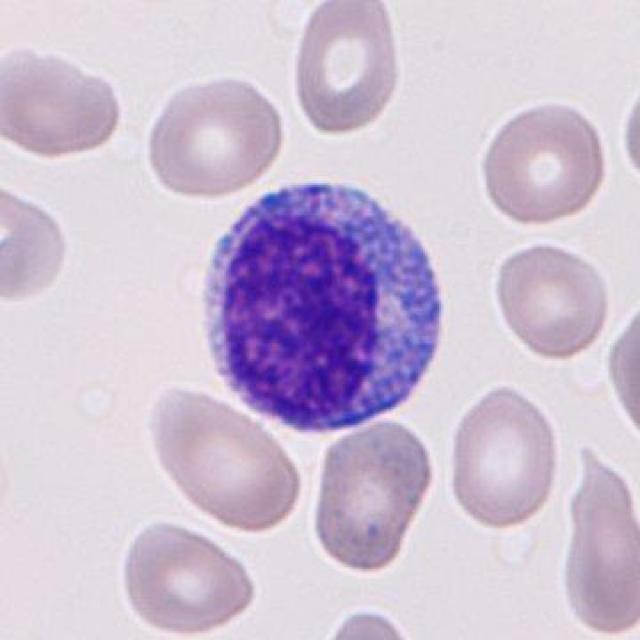RBC: (140, 377, 304, 531), (308, 414, 438, 576), (142, 69, 286, 203), (441, 381, 562, 534), (114, 516, 261, 638), (476, 98, 608, 229), (554, 441, 640, 635), (288, 2, 405, 138), (491, 238, 613, 361), (2, 41, 124, 163), (0, 178, 73, 306), (604, 292, 640, 454), (311, 606, 425, 640), (618, 65, 640, 197)
